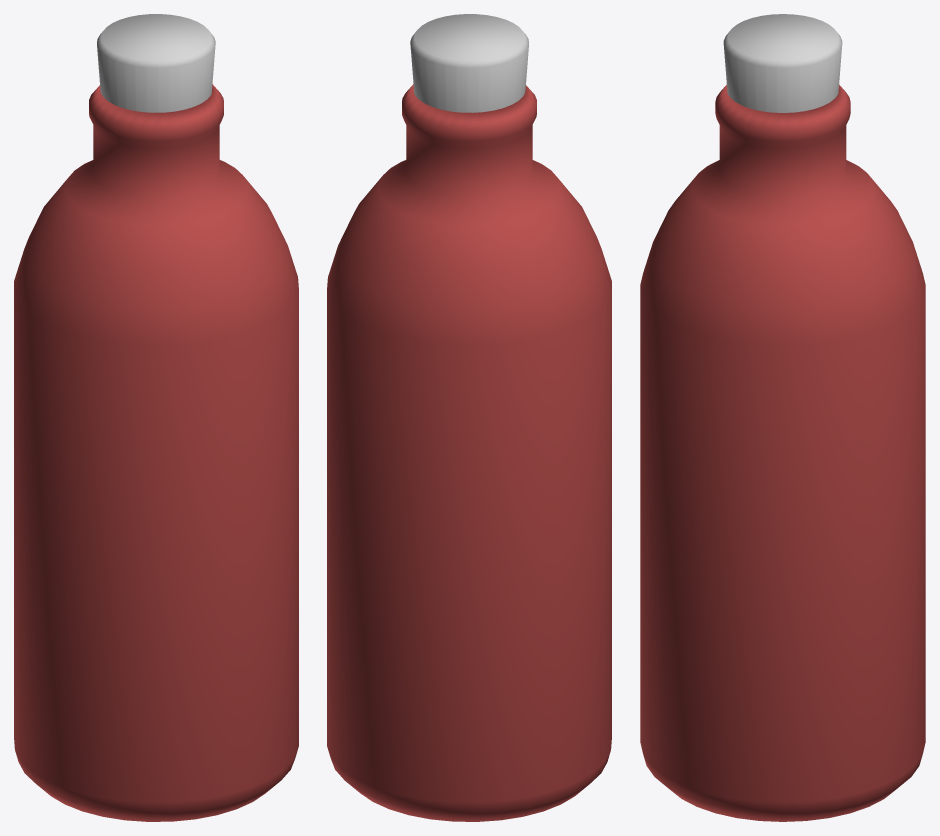
The model's file is Bottle tight.fbx.
The picture shows the model from 3 angles, left to right: view 1: azimuth 30°, elevation 25°; view 2: azimuth 150°, elevation 25°; view 3: azimuth 270°, elevation 25°; orthographic projection.
Parts seen in each view (by area): view 1: Bottle tight; view 2: Bottle tight; view 3: Bottle tight.
Part boxes in pixels (x1=…): Bottle tight: x1=14, y1=14, x2=298, y2=821; Bottle tight: x1=327, y1=14, x2=611, y2=821; Bottle tight: x1=640, y1=14, x2=925, y2=821.
Size of the model in its own units: 98.26 by 278 by 98.26.
